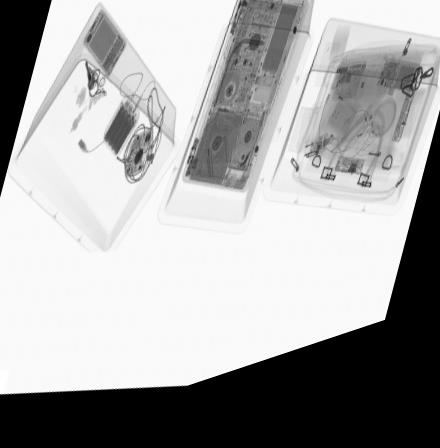Powerbank: (102, 104, 139, 163)
